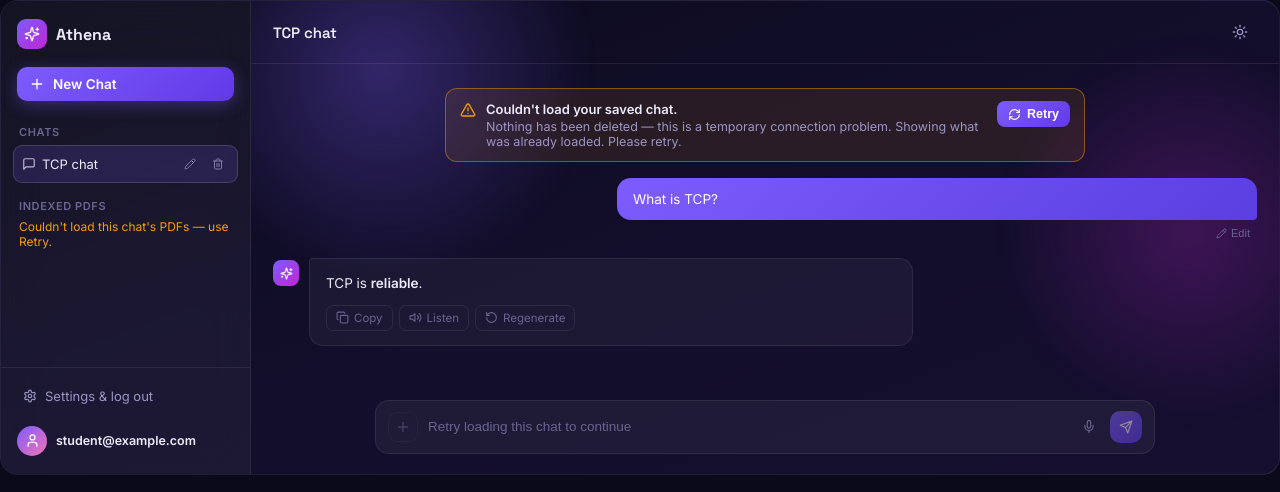
it: saved chat loading › a partial failure keeps the loaded messages and retries only what failed
Expected: the text "What is TCP?" is shown, [617,178,1257,220]
Expected: the message that starts with "Couldn't load your saved chat." shows "Showing what was already loaded", [486,119,978,149]
Click the button "Retry".
click(1034, 114)  # box [997,101,1070,127]
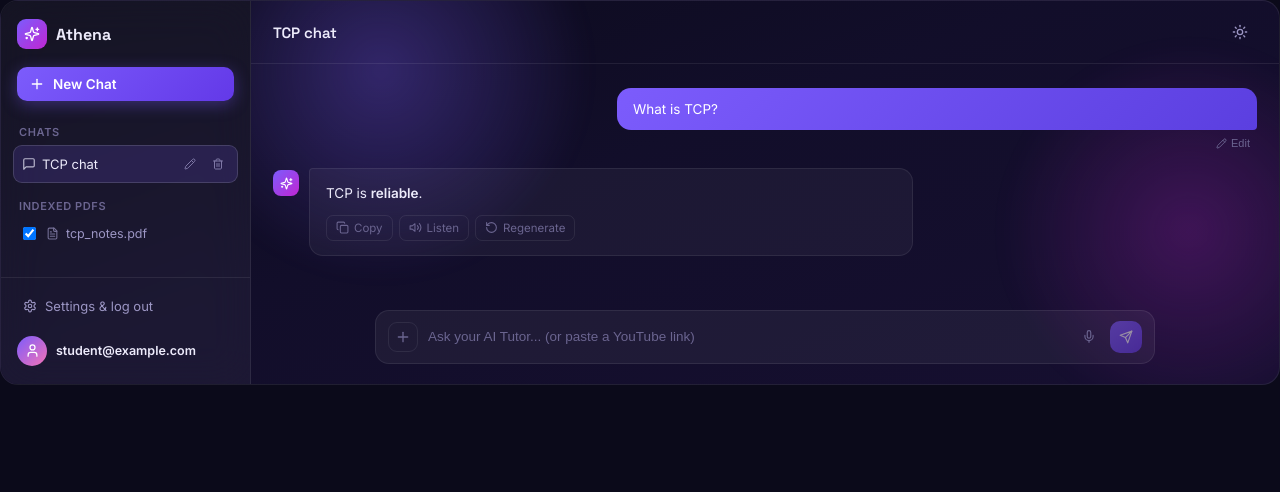
Expected: the text "What is TCP?" is shown, [617,88,1257,130]
Result: the message "Couldn't load this chat's PDFs — use Retry." is gone
Result: the checkbox is checked at [23,227,36,240]
